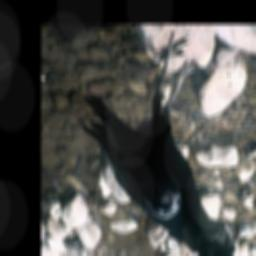Crow: (81, 31, 240, 256)
